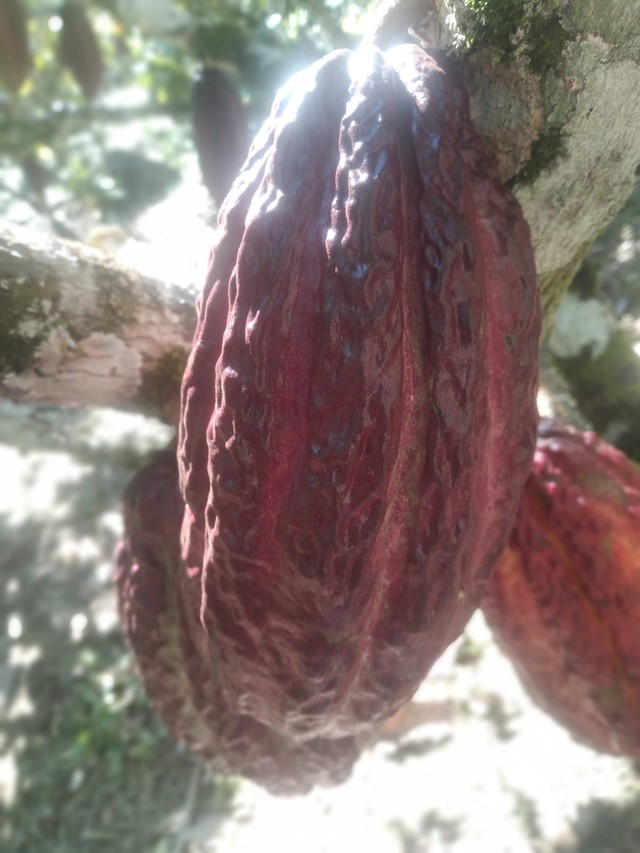Health: (146, 36, 559, 748)
